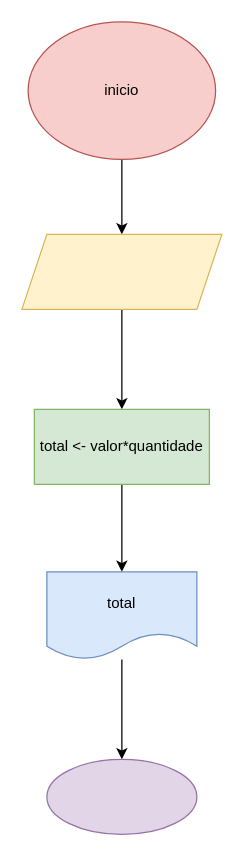
The diagram is 244 pixels wide and 856 high, and some of its shapes have lost their labels. Here are the shapes that lost their labels. From the top down, the centre of each, then its label:
pixel 121 271: valor, quantidade
pixel 121 796: Fim
